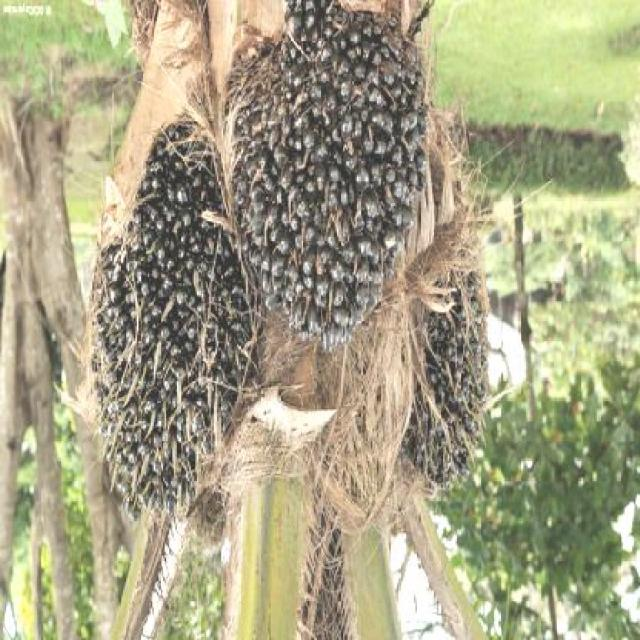palm-oil: (229, 11, 434, 324), (86, 231, 225, 523), (132, 124, 266, 426), (412, 219, 496, 487)
